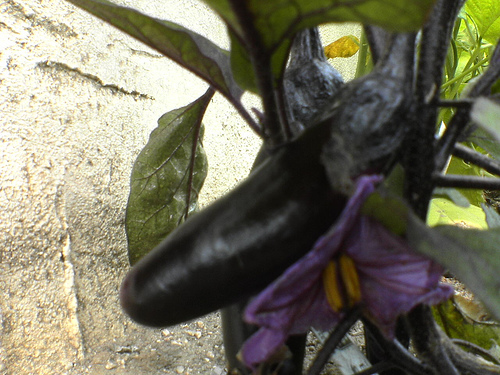eggplant: (113, 65, 418, 334)
